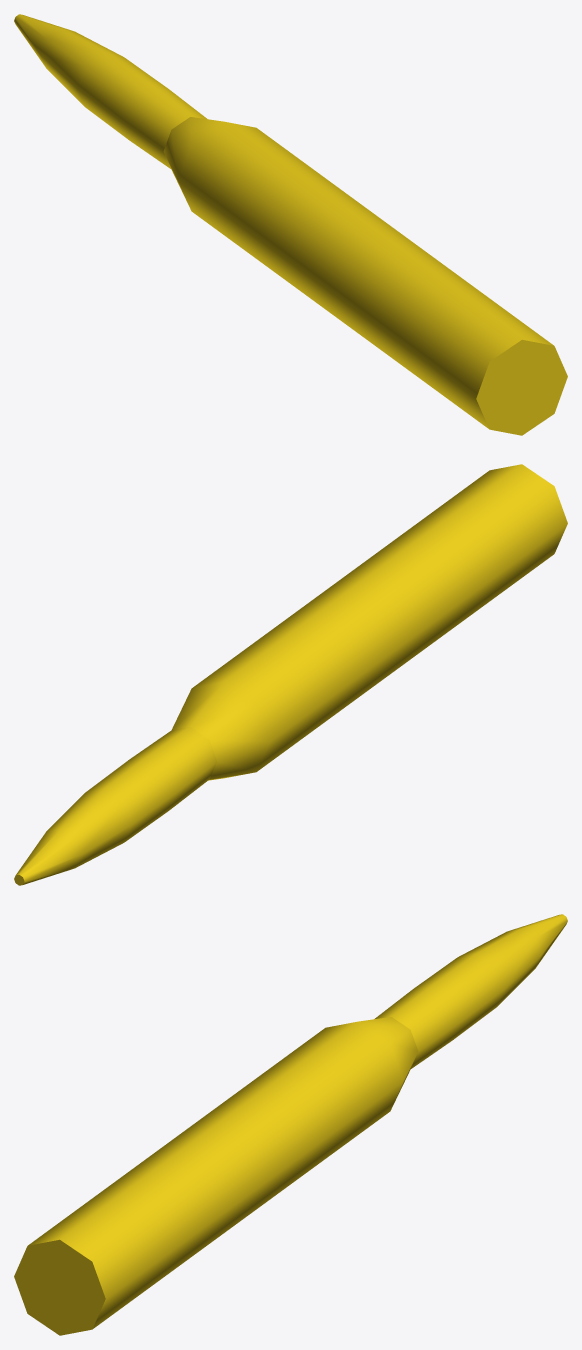
Rendered from Sniper_Bullet.fbx.
3 renders of one model, top to bottom at view 1: azimuth 30°, elevation 25°; view 2: azimuth 150°, elevation 25°; view 3: azimuth 330°, elevation 25°, orthographic.
Visible parts, largest first — view 1: AK_Bullet; view 2: AK_Bullet; view 3: AK_Bullet.
Boxes of the visible parts, bbox=[...] form: AK_Bullet: bbox=[14, 14, 567, 435]; AK_Bullet: bbox=[14, 464, 567, 885]; AK_Bullet: bbox=[14, 914, 567, 1335].
Size of the model in its own units: 0.547 by 0.547 by 5.19.
